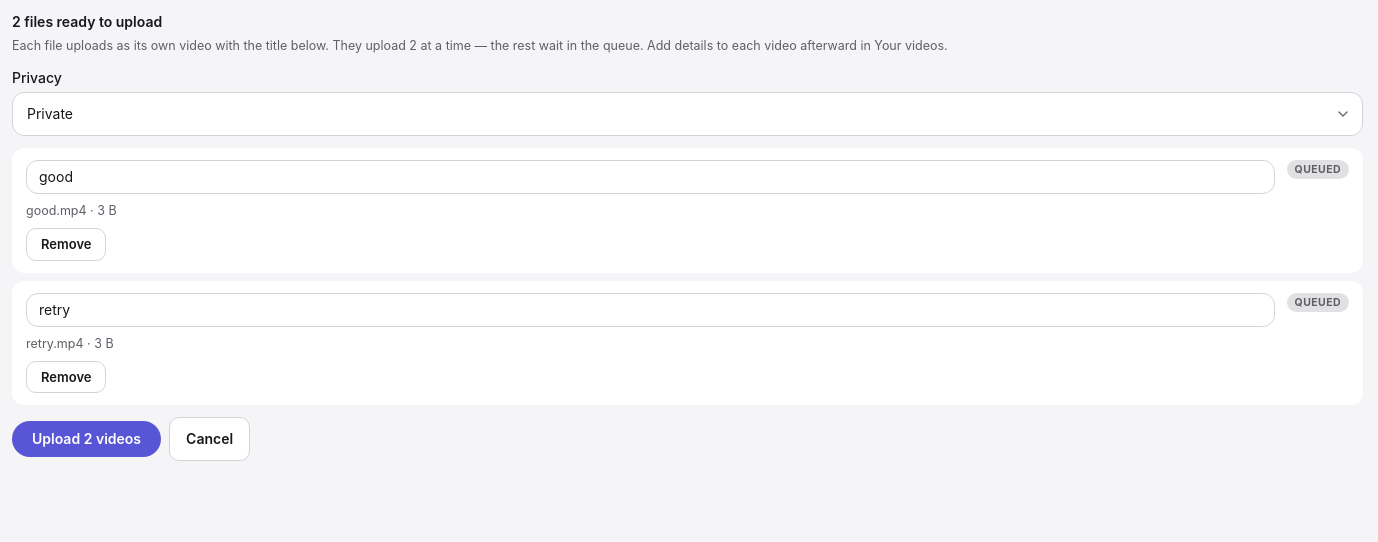
Test: batch retry identity › reuses the interrupted draft/session while leaving successful rows alone
The width and height of the screenshot is (1378, 542).
What coordinates should you click on to do the following:
click the button "Upload 2 videos"
I would click on:
 (87, 439)
Its box is [12, 421, 161, 457].
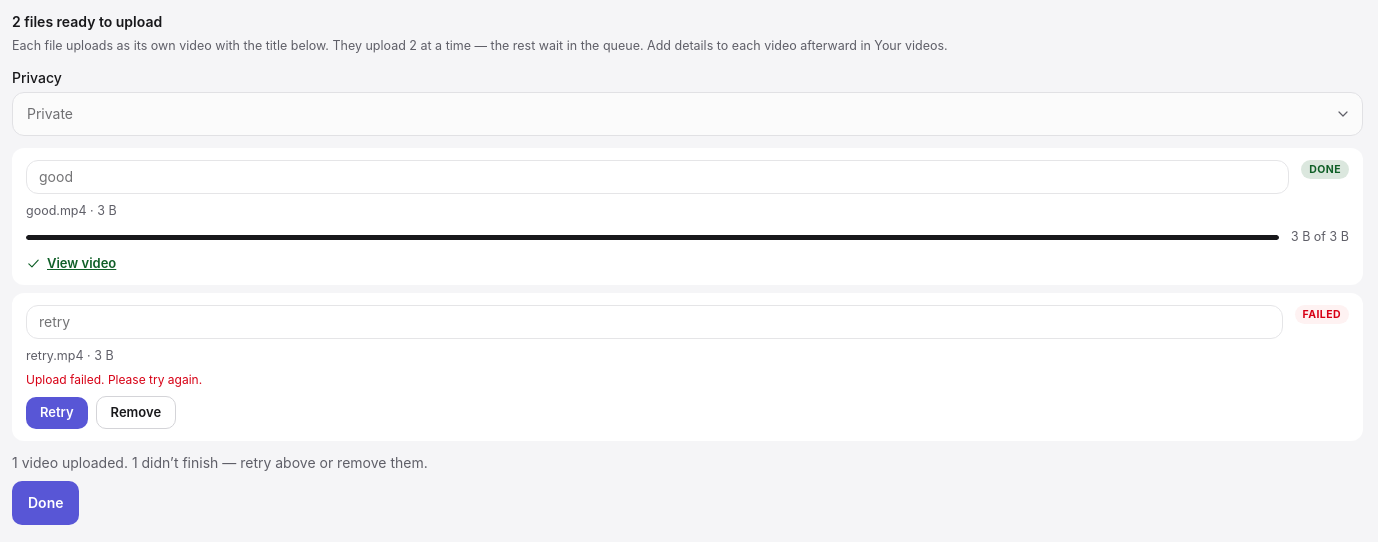
What coordinates should you click on to do the following:
click the button with aria-label "Retry retry.mp4"
I would click on:
 (57, 413)
Its box is [26, 397, 88, 429].
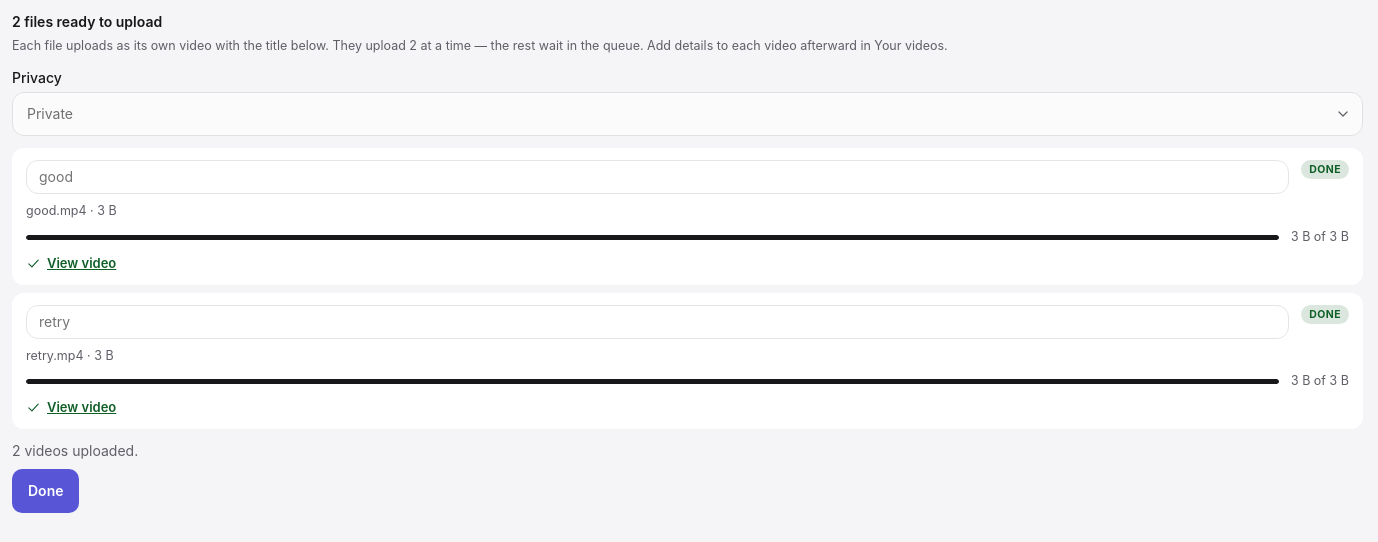
Now the number of links "View video" is 2, box [47, 254, 116, 273]; [47, 398, 116, 417]
